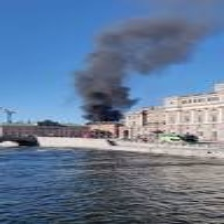smoke: (72, 14, 207, 120)
